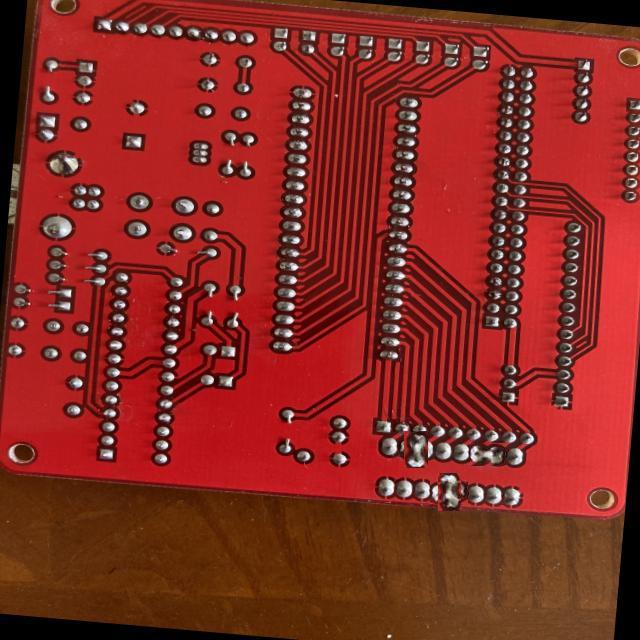damged: (433, 477, 465, 508), (400, 434, 431, 465), (469, 443, 506, 466)
